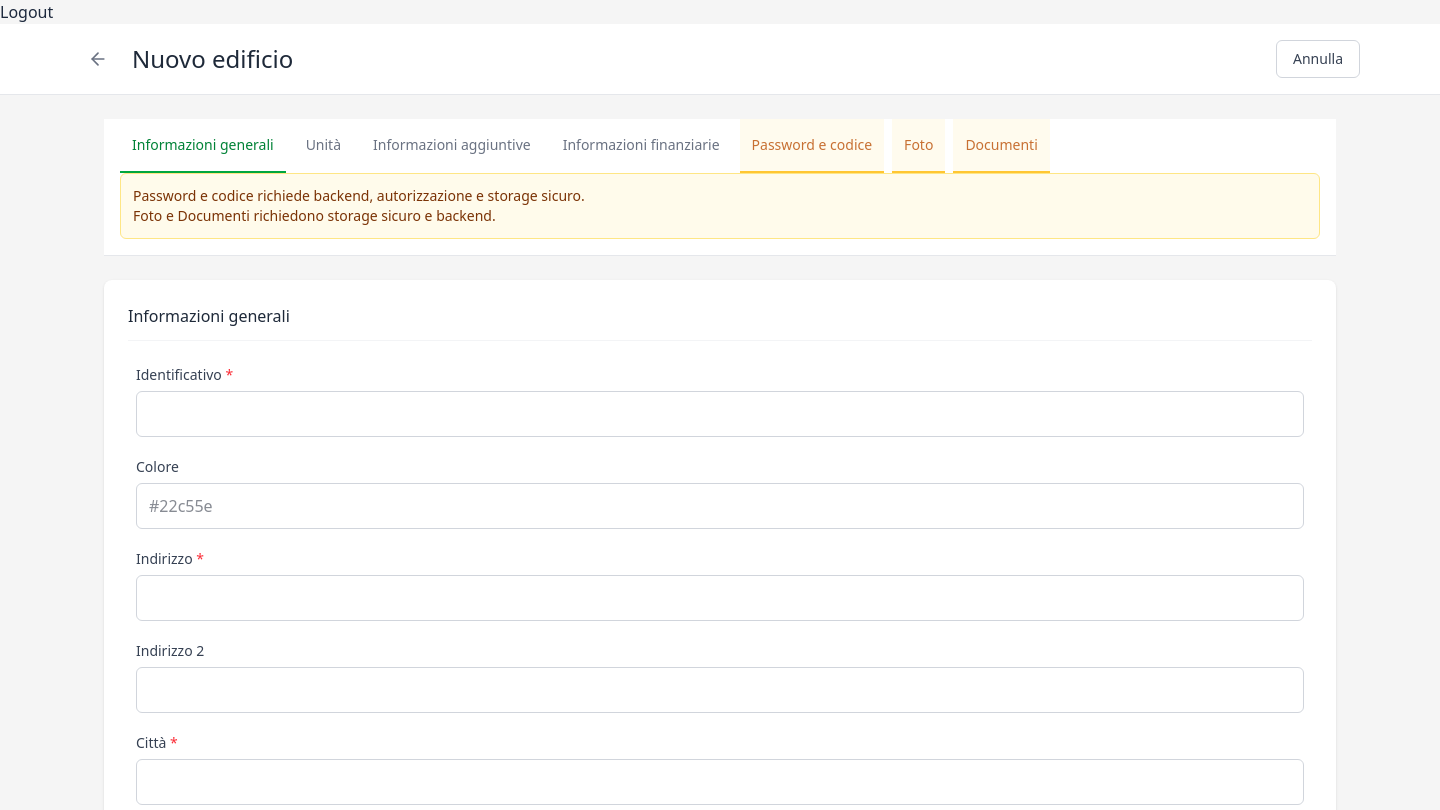
Nuovo edificio draft, guard e recovery › intercetta browser back dirty prima della scelta
This screenshot has width=1440, height=810.
In the field with id "identifier": [720, 414] box left=136, top=391, right=1304, bottom=437, type "Dirty back"
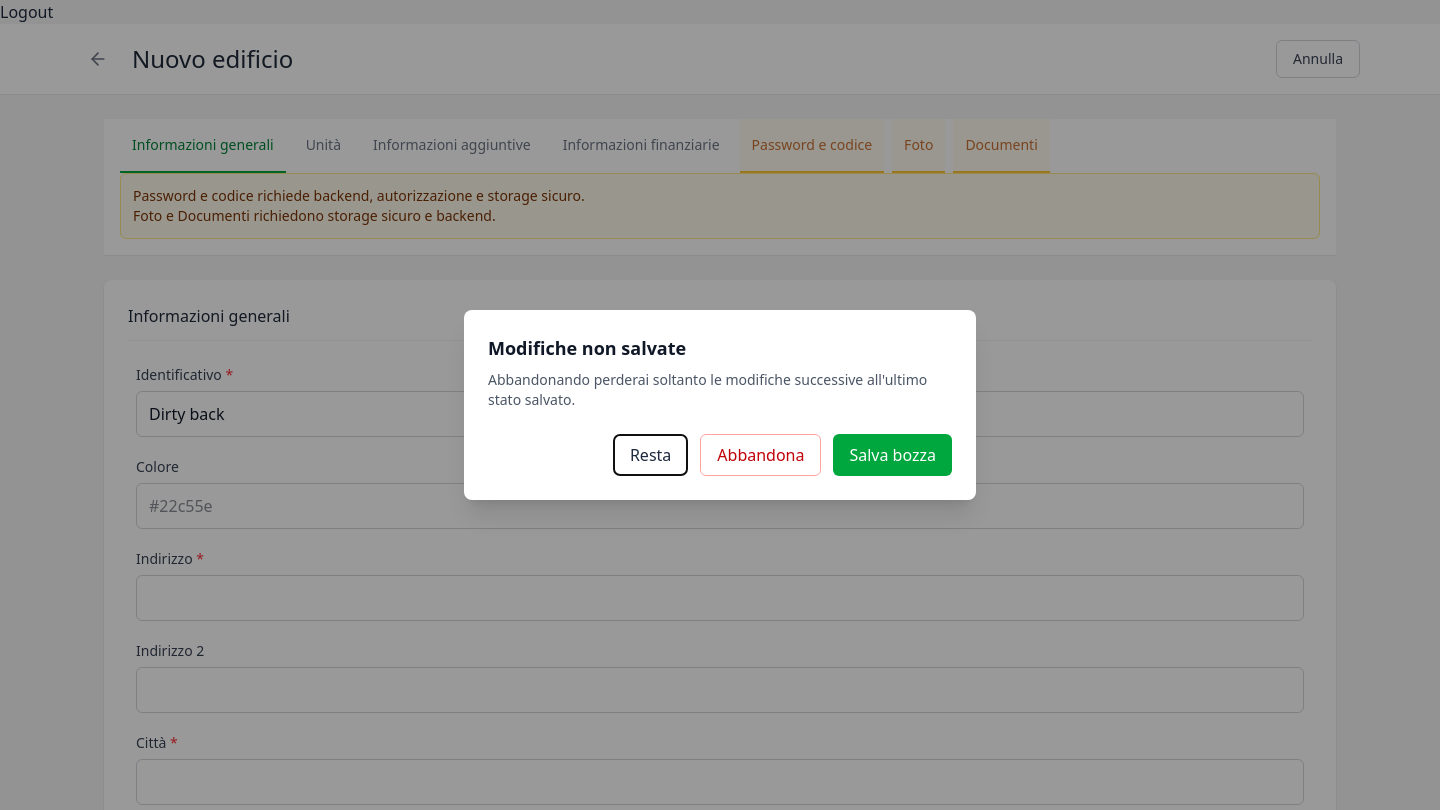
Expected: the heading "Modifiche non salvate" is shown, left=488, top=336, right=686, bottom=360
